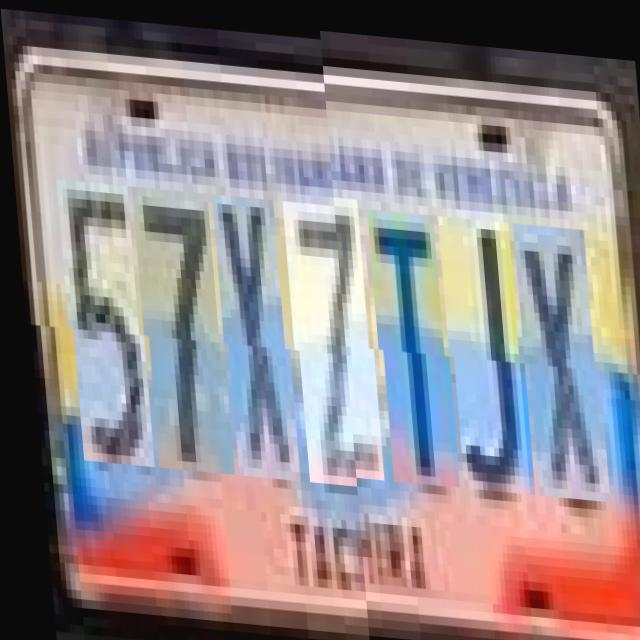5: (58, 179, 146, 465)
7: (134, 184, 226, 470)
J: (440, 216, 528, 494)
T: (370, 211, 452, 488)
X: (516, 222, 604, 500), (214, 190, 292, 476)
Z: (284, 196, 377, 482)
